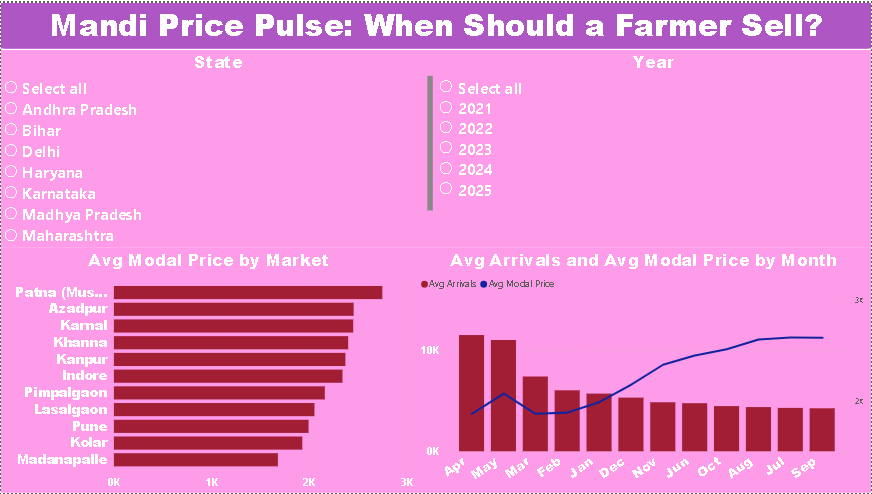

Layout of this report page (visuals, bound fields, positions):
{"tool":"powerbi","page":{"name":"Markets & Supply Impact ","canvas":[1280,720],"ordinal":2},"visuals":[{"type":"textbox","title":"Mandi Price Pulse: When Should a Farmer Sell?","box":[0,0,1280.2,69.1],"z":0},{"type":"listSlicer","fields":{"Values":["mandi_prices.State"]},"box":[0,68.6,640,291.4],"z":1},{"type":"listSlicer","fields":{"Values":["DimDate.Year"]},"box":[640,68.6,640,291.4],"z":2},{"type":"barChart","fields":{"Category":["mandi_prices.Market"],"Y":["mandi_prices.Avg Modal Price"]},"box":[0,360.3,611.8,360.3],"z":3},{"type":"lineClusteredColumnComboChart","fields":{"Category":["DimDate.Month"],"Y":["mandi_prices.Avg Arrivals"],"Y2":["mandi_prices.Avg Modal Price"]},"box":[611.8,360.3,667.6,360.3],"z":4}]}

Visuals, with their boxes in screenshot pixels (x1, y1, x2, y2), scaled from the page's 1280x720 canvas onto the 872x494 screenshot:
"Mandi Price Pulse: When Should a Farmer Sell?" textbox: [0,0,871,47]
listSlicer - mandi_prices.State: [0,47,436,247]
listSlicer - DimDate.Year: [436,47,871,247]
barChart - mandi_prices.Market x mandi_prices.Avg Modal Price: [0,247,417,493]
lineClusteredColumnComboChart - DimDate.Month x mandi_prices.Avg Arrivals: [417,247,871,493]
